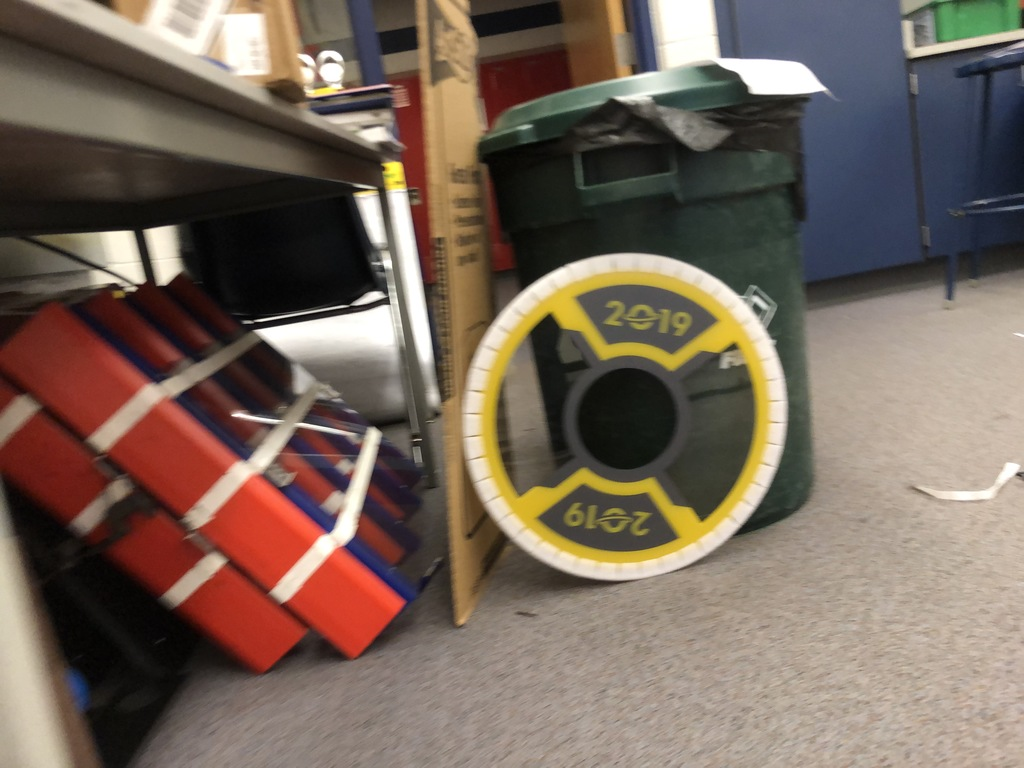hatch_panel: (436, 242, 809, 597)
